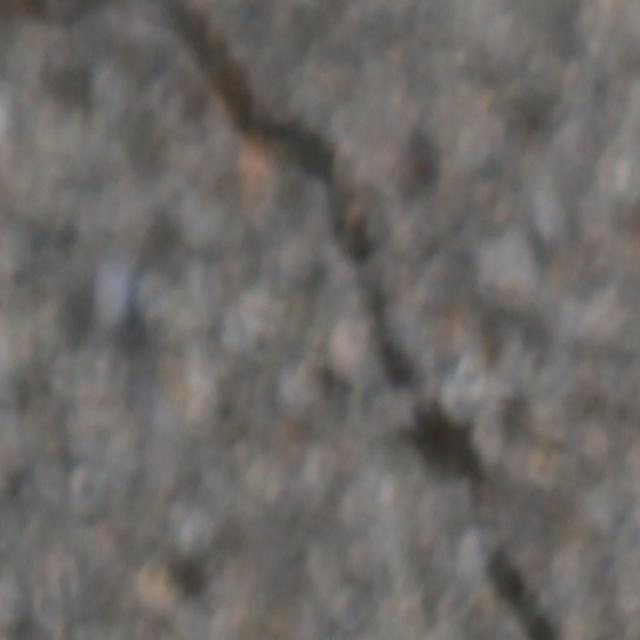Longitudinal: (76, 0, 562, 640)
